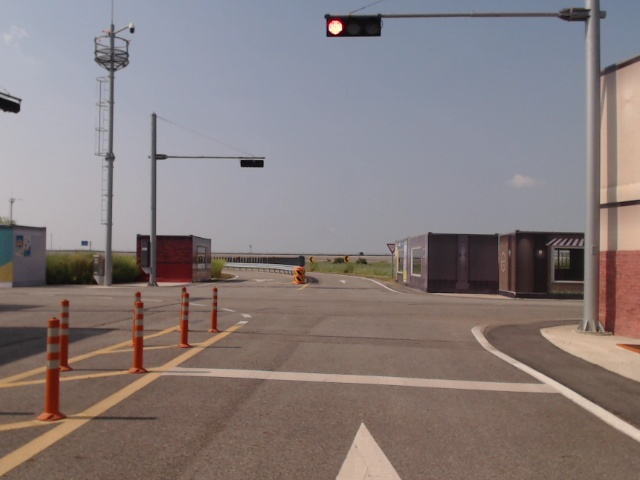red_3: (325, 15, 382, 38)
